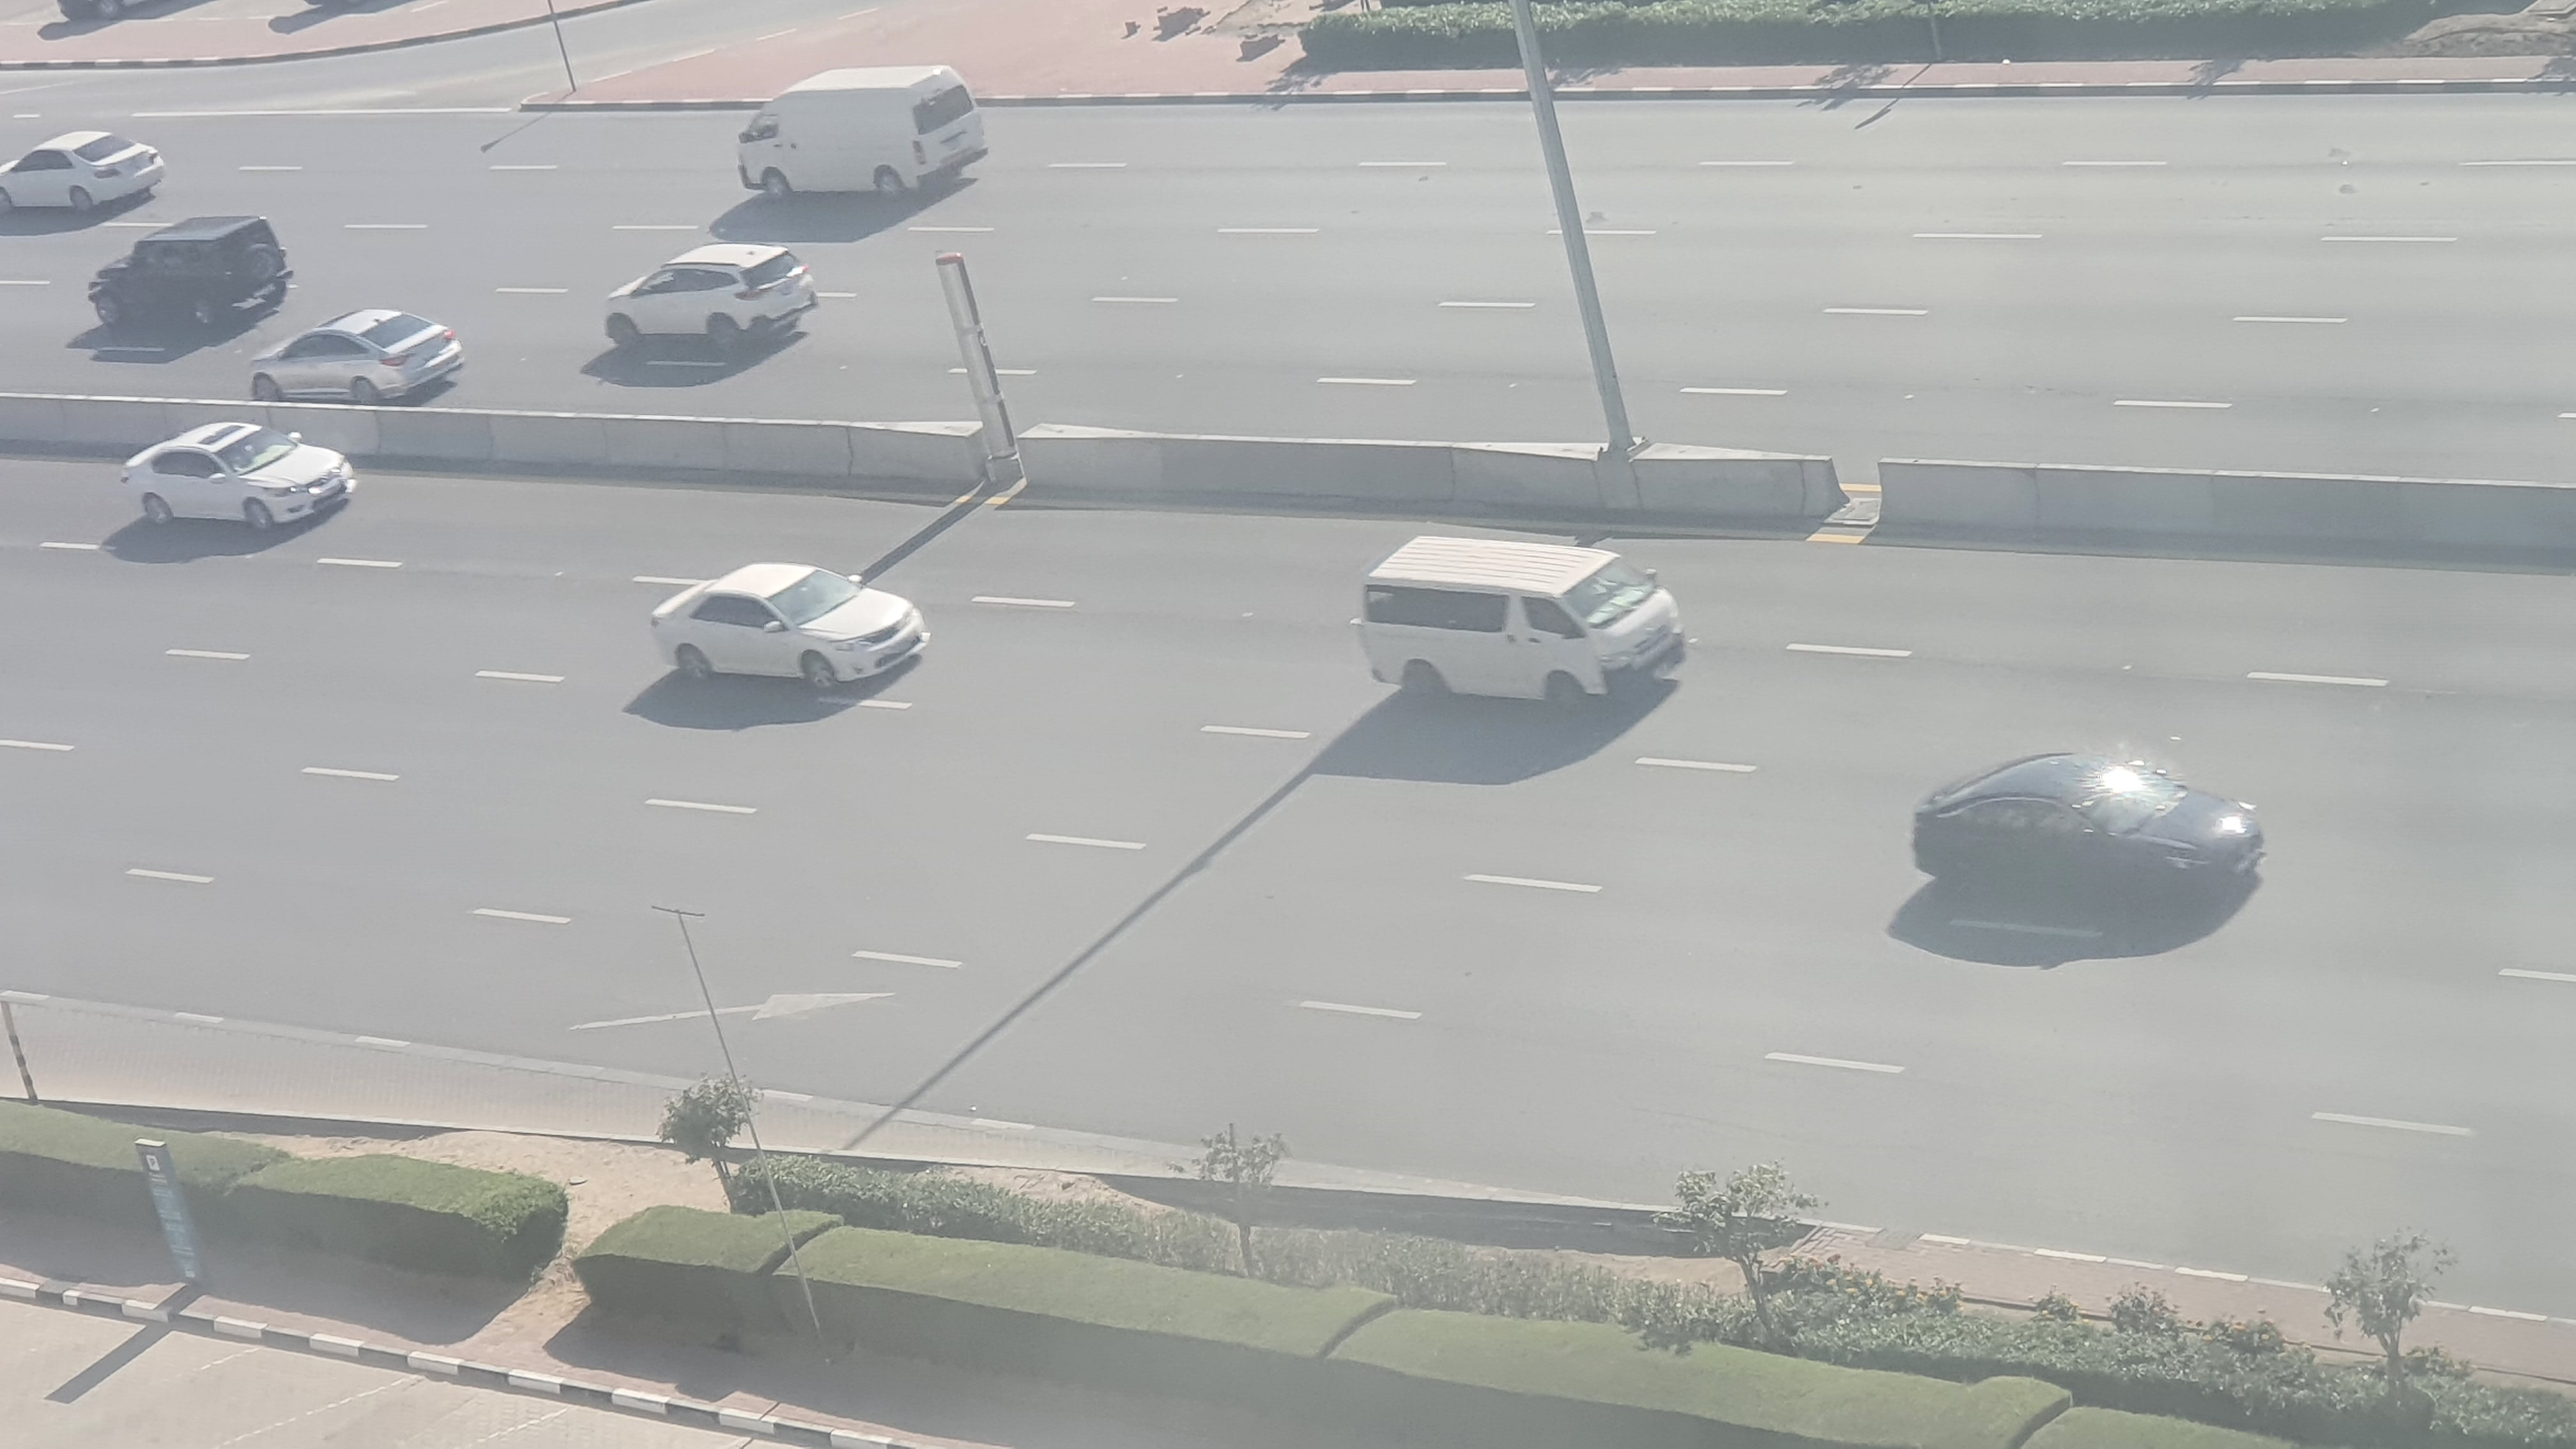NotSunroof: (1914, 752, 2266, 911), (640, 561, 931, 699)
Sunroof: (120, 421, 357, 543)
